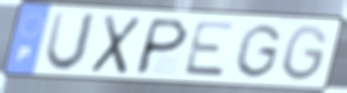E: (181, 20, 239, 79)
G: (280, 22, 331, 84), (231, 22, 285, 80)
P: (131, 16, 192, 77)
U: (41, 9, 100, 75)
X: (87, 12, 145, 77)
